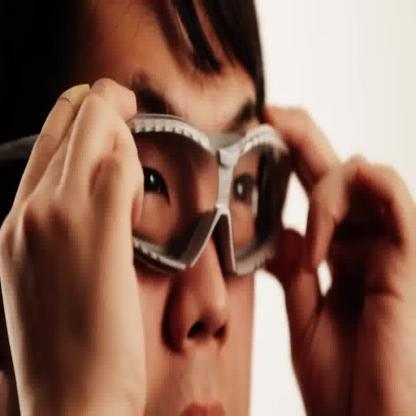goggles: (131, 107, 294, 282)
